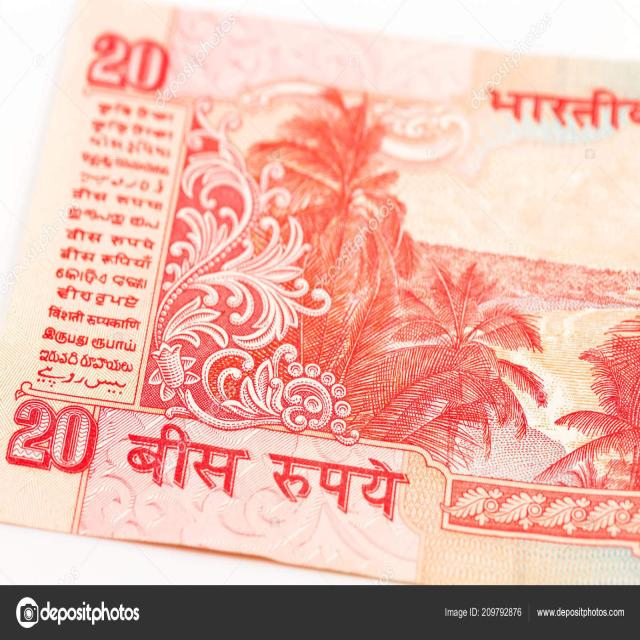20IndianRupees: (0, 2, 638, 582)
